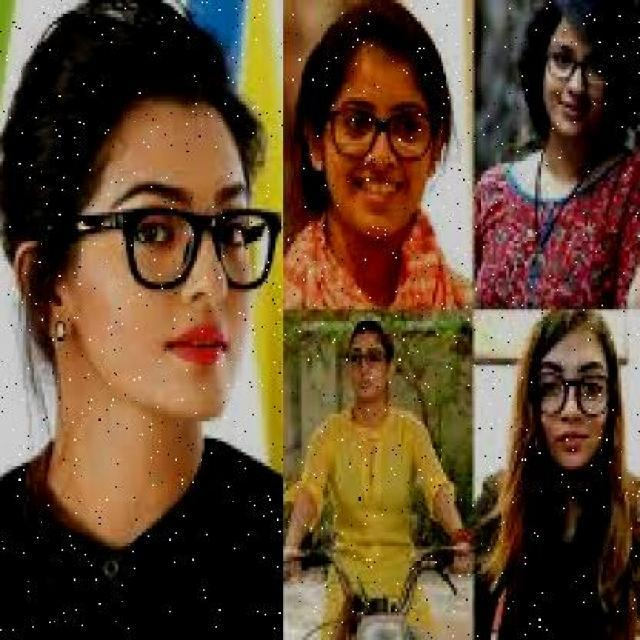glasses: (112, 194, 286, 300), (324, 98, 446, 167), (521, 366, 617, 420), (543, 38, 617, 87), (338, 340, 391, 372)
